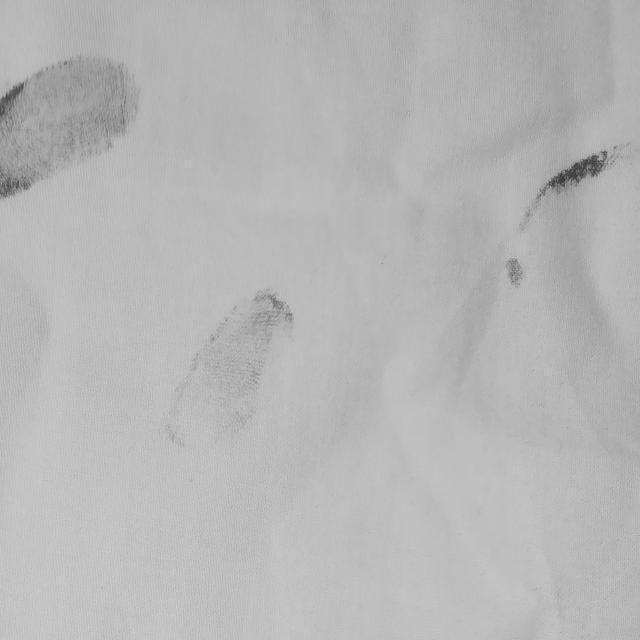Stain: (165, 289, 293, 446), (0, 55, 139, 198), (520, 143, 631, 231), (506, 258, 523, 286)
